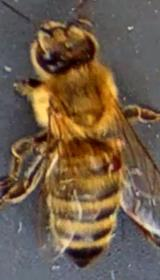varroa_mite: (98, 147, 125, 173)
